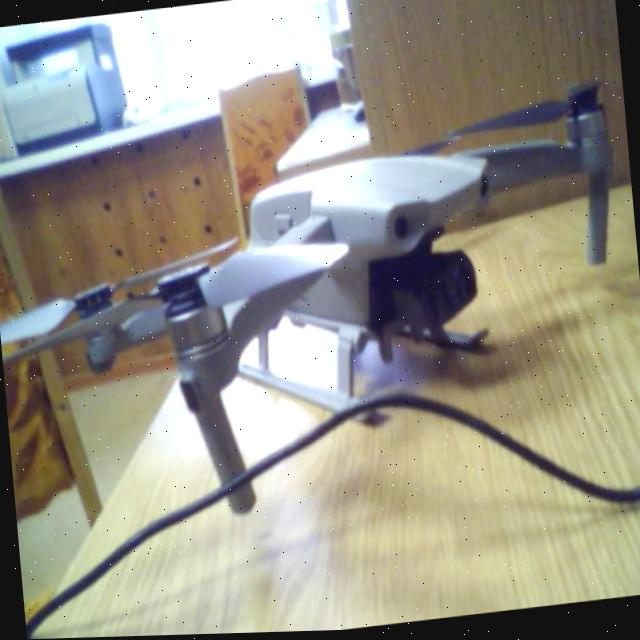drone: (0, 68, 640, 536)
